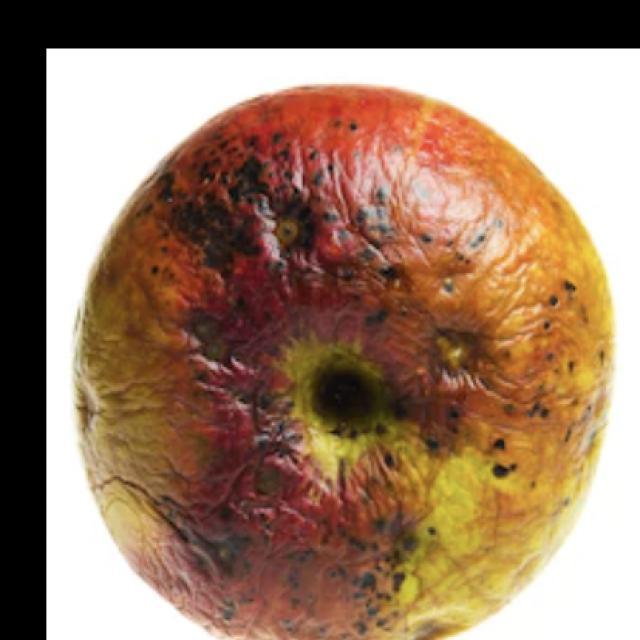Rotten: (78, 78, 617, 640)
